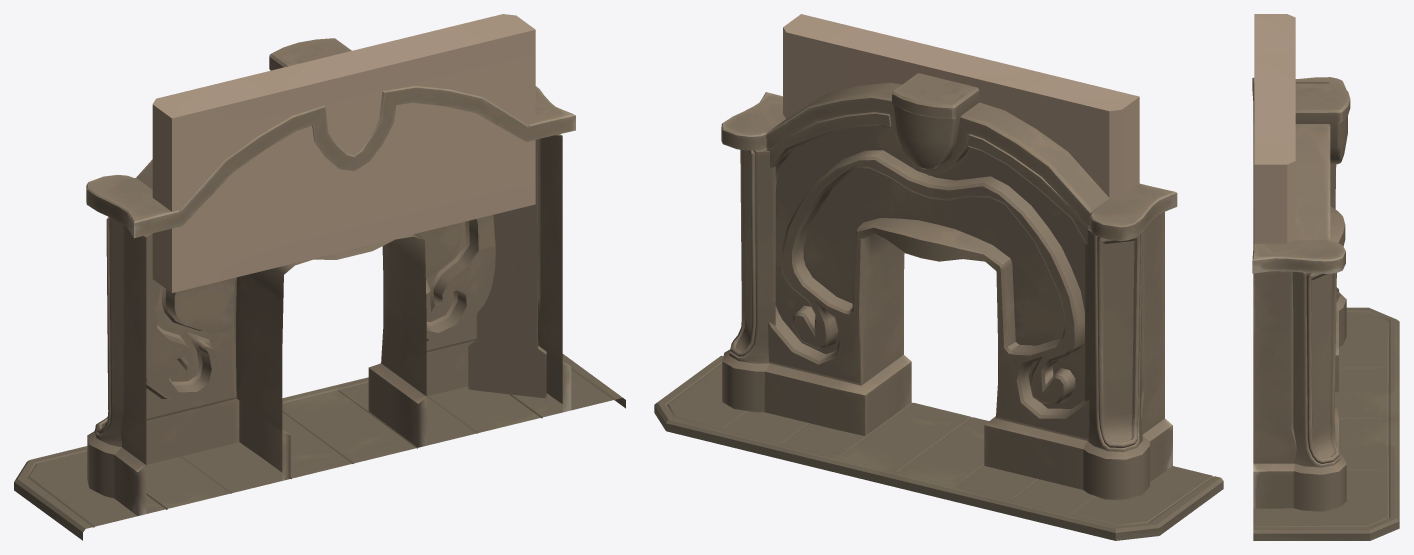
Rendered from fireplace.fbx.
3 views of the same model, side by side, from view 1: azimuth 30°, elevation 25°; view 2: azimuth 150°, elevation 25°; view 3: azimuth 270°, elevation 25° (orthographic). The views are drawn at different scales.
Visible parts, largest first — view 1: fireplaceWall, fireplace, fireplaceFloor, firePlaceTop, fireplaceLateral, fireplaceLateral1, fireplaceCenterDetail; view 2: fireplace, fireplaceFloor, fireplaceWall, firePlaceTop, fireplaceLateral1, fireplaceLateral, fireplaceCenterDetail; view 3: fireplaceFloor, fireplaceLateral, fireplace, fireplaceWall, firePlaceTop, fireplaceCenterDetail, fireplaceLateral1.
Part boxes in pixels (x1,y1,x2,y2): fireplaceWall: (152, 14, 535, 292); fireplace: (114, 126, 571, 515); fireplaceFloor: (14, 354, 625, 540); firePlaceTop: (86, 86, 575, 238); fireplaceLateral: (468, 139, 546, 398); fireplaceLateral1: (87, 217, 146, 498); fireplaceCenterDetail: (269, 38, 351, 70); fireplace: (764, 112, 1172, 489); fireplaceFloor: (654, 355, 1223, 540); fireplaceWall: (783, 14, 1139, 197); firePlaceTop: (721, 82, 1177, 241); fireplaceLateral1: (1083, 229, 1149, 500); fireplaceLateral: (722, 148, 775, 412); fireplaceCenterDetail: (891, 73, 979, 169); fireplaceFloor: (1253, 307, 1399, 540); fireplaceLateral: (1292, 271, 1346, 511); fireplace: (1253, 206, 1345, 508); fireplaceWall: (1254, 14, 1295, 243); firePlaceTop: (1252, 77, 1345, 273); fireplaceCenterDetail: (1295, 83, 1350, 164); fireplaceLateral1: (1330, 164, 1346, 347).
Bounding box in the file's own units: 17 × 11.98 × 4.71.
